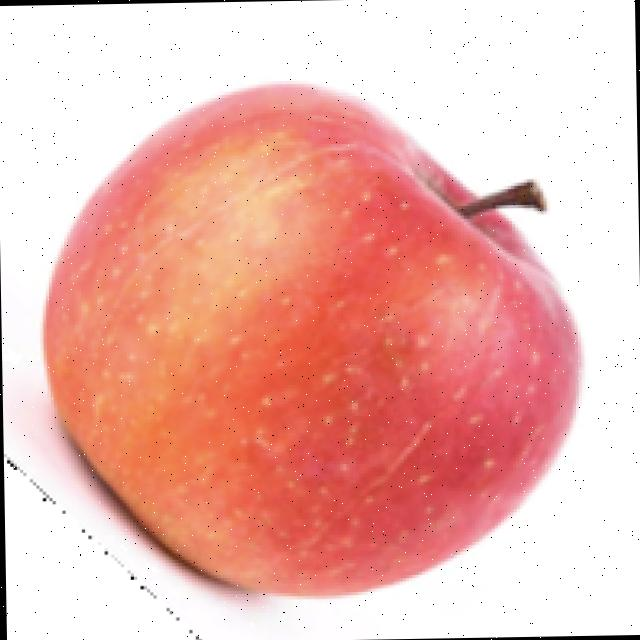apple: (15, 77, 590, 622)
